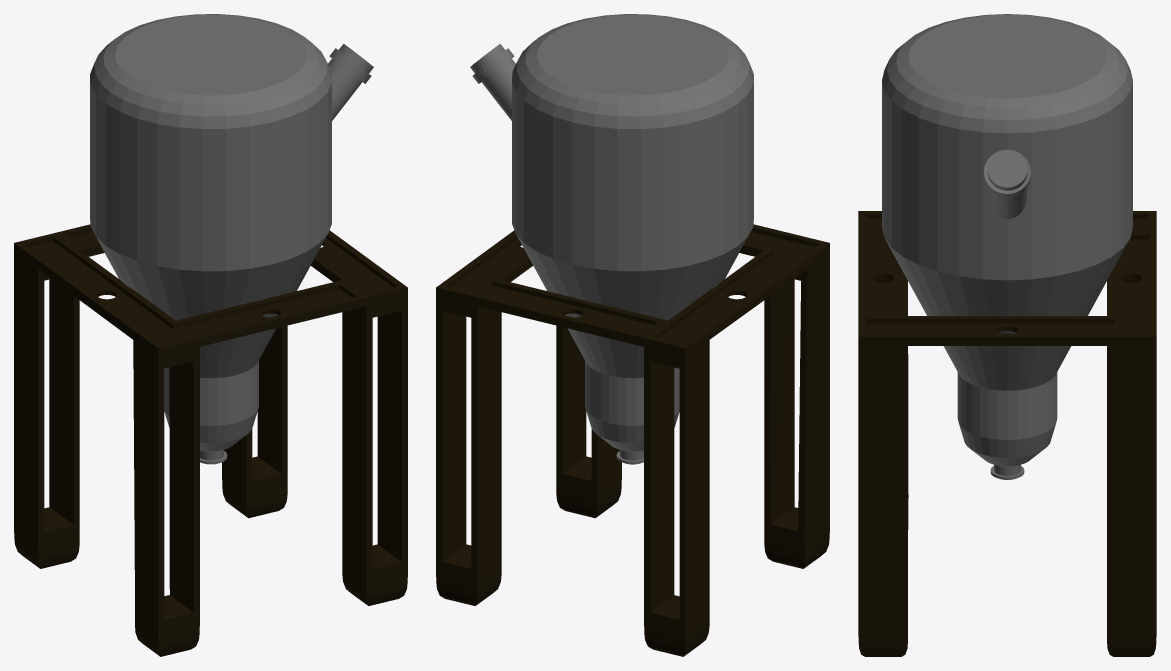
Rendered from regenerator.obj.
3 views of the same model, side by side, from view 1: azimuth 30°, elevation 25°; view 2: azimuth 150°, elevation 25°; view 3: azimuth 270°, elevation 25° (orthographic). The views are drawn at different scales.
Visible parts, largest first — view 1: Текст; view 2: Текст; view 3: Текст.
Part boxes in pixels (bbox=[...]): Текст: bbox=[14, 14, 407, 656]; Текст: bbox=[436, 14, 829, 656]; Текст: bbox=[858, 14, 1156, 656].
Bounding box in the file's own units: 6.86 × 12.03 × 6.
